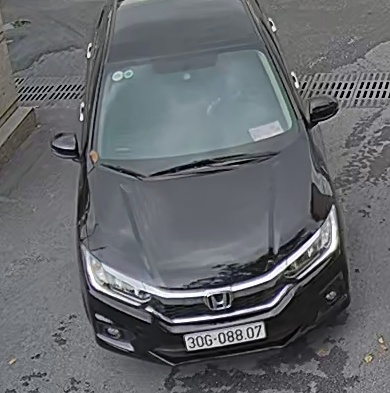vehicle plate: (181, 321, 266, 358)
